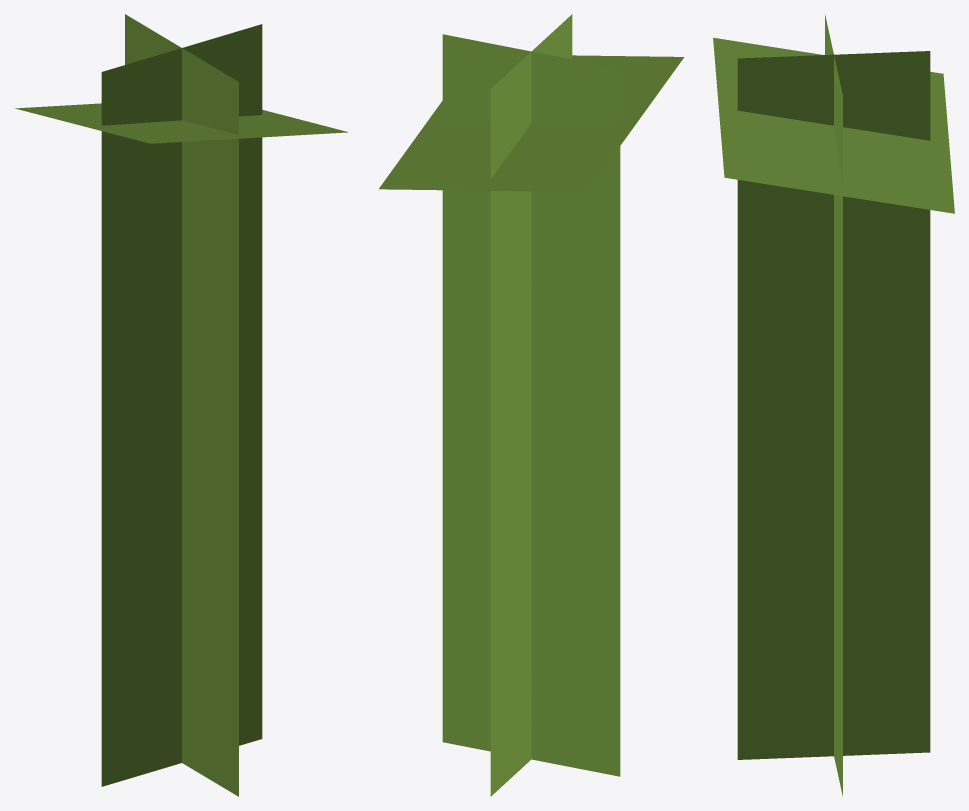
File: wildflower_single_e.glb
The picture shows the model from 3 angles, left to right: view 1: azimuth 30°, elevation 25°; view 2: azimuth 150°, elevation 25°; view 3: azimuth 270°, elevation 25°; orthographic projection.
Visible parts, largest first — view 1: wildflower_single_e_lod0; view 2: wildflower_single_e_lod0; view 3: wildflower_single_e_lod0.
Part boxes in pixels (box(x1,y1,x2,y2)): wildflower_single_e_lod0: box(15, 14, 348, 796); wildflower_single_e_lod0: box(379, 14, 684, 796); wildflower_single_e_lod0: box(713, 14, 954, 796).
Size of what is drawn, in the model's own units: 0.2781 by 0.85 by 0.2656.
